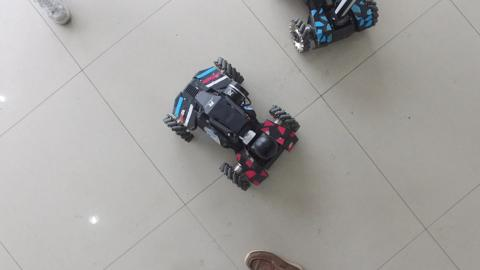chariot: (156, 55, 303, 194), (286, 1, 385, 56)
